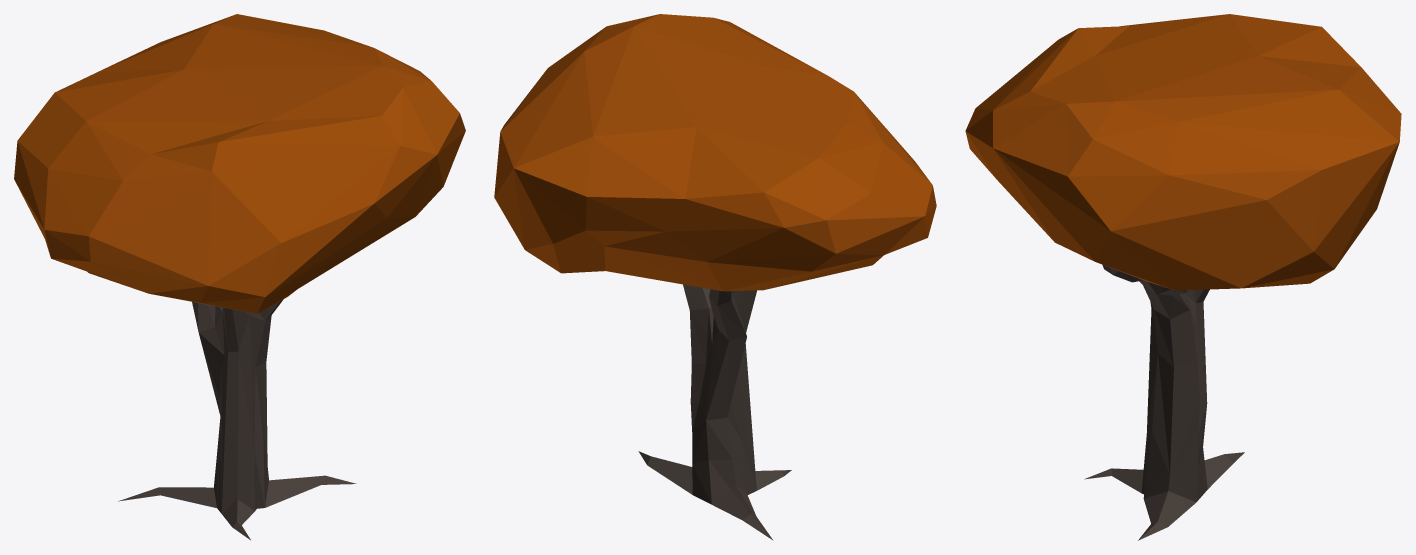
The model's file is SM_Oak_01.fbx.
3 renders of one model, left to right at view 1: azimuth 30°, elevation 25°; view 2: azimuth 150°, elevation 25°; view 3: azimuth 270°, elevation 25°, orthographic. The views are drawn at different scales.
Parts seen in each view (by area): view 1: SM_Oak_01; view 2: SM_Oak_01; view 3: SM_Oak_01.
Part boxes in pixels (x1,y1,x2,y2): SM_Oak_01: (14,14,465,540); SM_Oak_01: (494,14,936,540); SM_Oak_01: (965,14,1401,540).
Size of the model in its own units: 1738 by 1794 by 1555.
